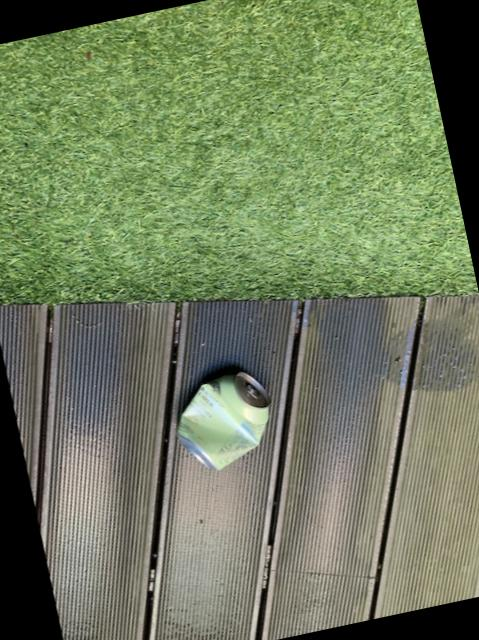metal: (177, 372, 269, 469)
